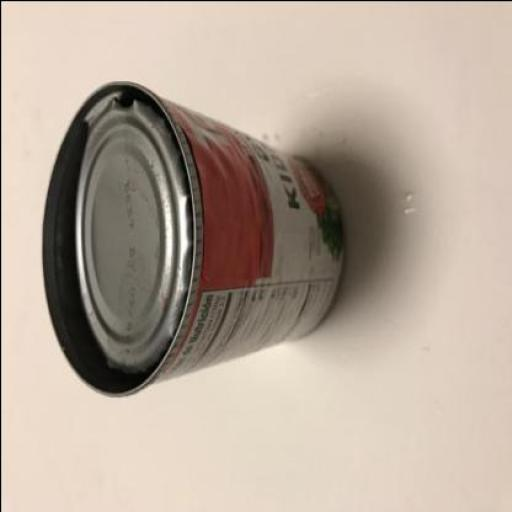metal: (38, 79, 342, 395)
